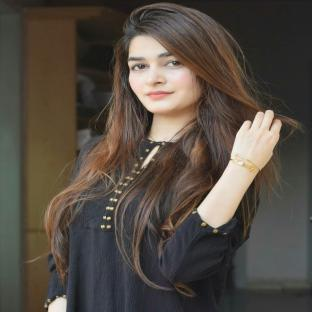Human: (33, 3, 301, 312)
